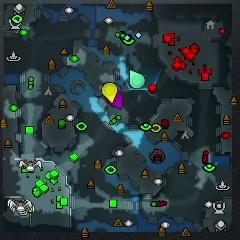p1: (115, 83, 121, 92)
p2: (129, 69, 145, 89)
p3: (107, 91, 123, 110)
p4: (101, 82, 117, 103)
